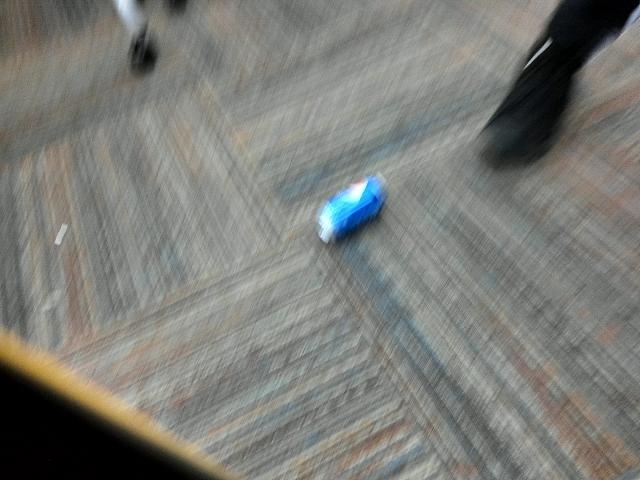can: (307, 161, 396, 256)
